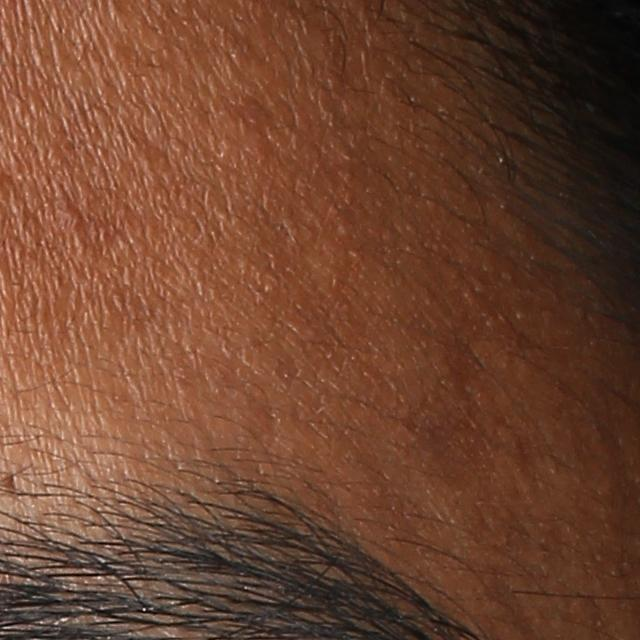nevus: (1, 469, 24, 497)
